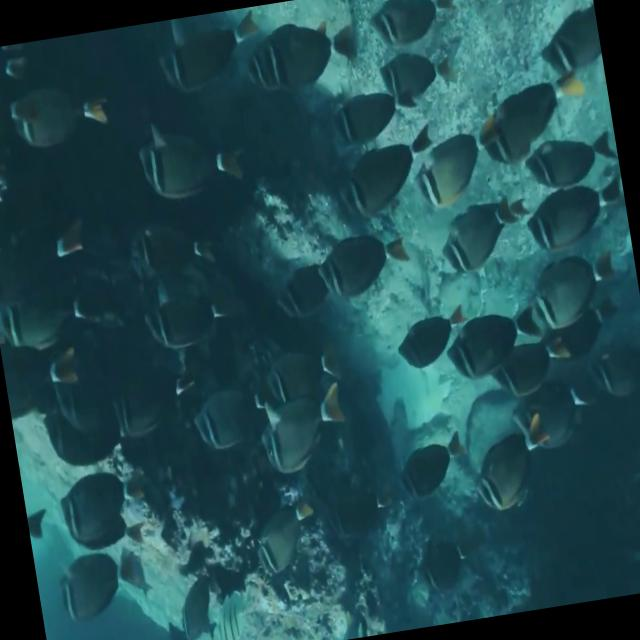fish: (468, 72, 592, 168), (131, 109, 245, 211), (438, 294, 554, 386), (334, 128, 446, 222), (407, 115, 506, 216), (252, 376, 349, 476), (521, 242, 619, 338), (520, 172, 631, 254), (51, 463, 153, 548), (58, 540, 153, 630), (433, 198, 533, 280), (472, 414, 554, 512), (188, 379, 278, 468), (10, 76, 114, 150), (317, 224, 413, 304), (390, 298, 471, 371), (524, 130, 618, 190), (396, 430, 471, 503), (370, 0, 466, 52)
